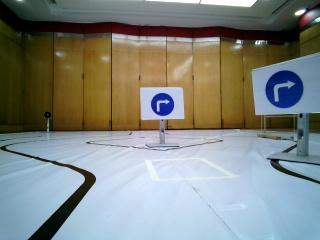right: (253, 70, 318, 115), (139, 87, 184, 121)
